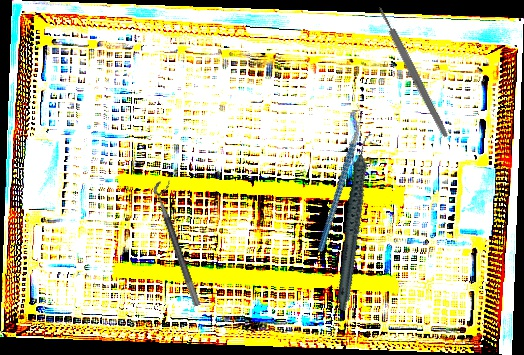Chopper: (273, 102, 406, 253)
Fixation Ring: (150, 177, 212, 308)
Handpiece: (302, 131, 409, 312)
Scalpel Handle: (376, 5, 450, 139)
